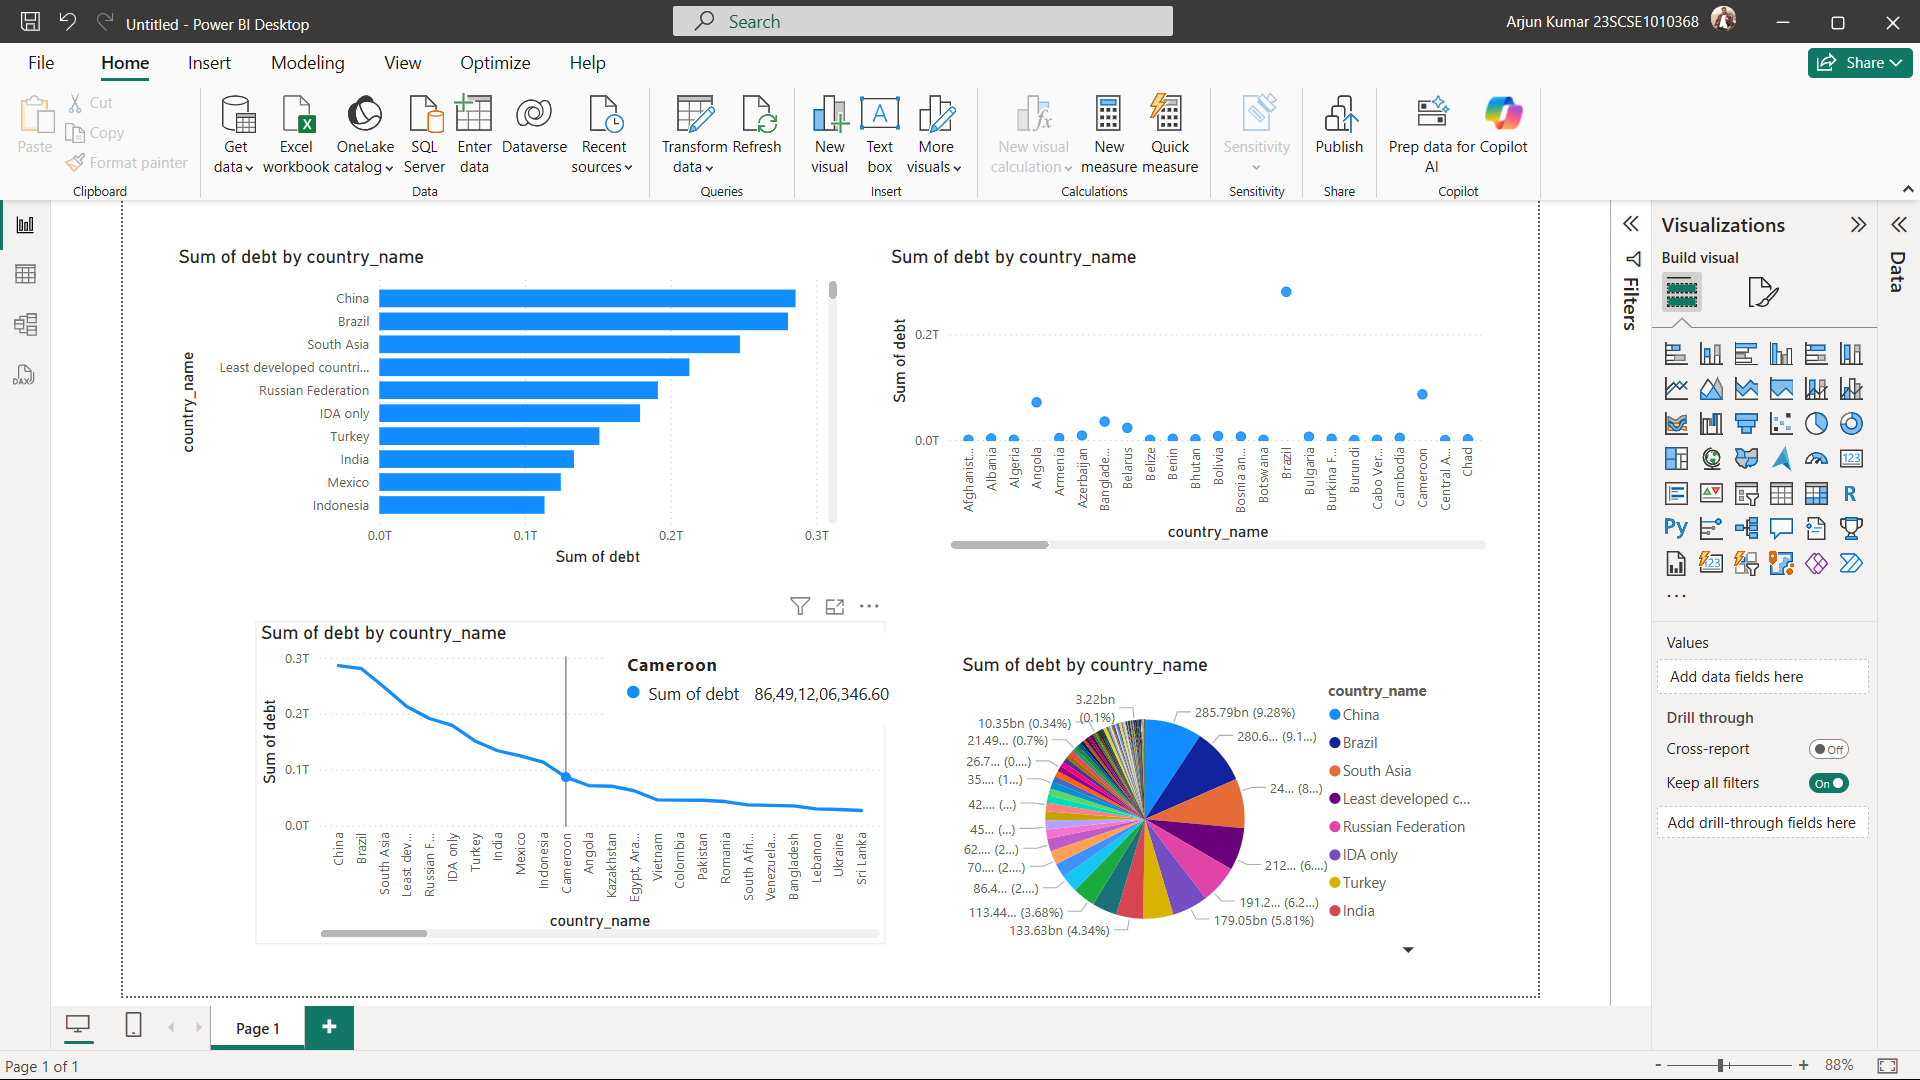

The page's visual inventory and layout, read from the dashboard file:
{"tool":"powerbi","page":{"name":"Page 1","canvas":[1280,720],"ordinal":0},"visuals":[{"type":"clusteredBarChart","fields":{"Y":["Sum(international_debt (1).debt)"],"Category":["international_debt (1).country_name"]},"box":[30,6.7,646.7,341.1],"z":0},{"type":"lineChart","fields":{"Category":["international_debt (1).country_name"],"Y":["Sum(international_debt (1).debt)"]},"box":[13.3,373.3,626.7,330],"z":1},{"type":"scatterChart","fields":{"X":["international_debt (1).country_name"],"Y":["Sum(international_debt (1).debt)"]},"box":[690,6.7,558.9,351.1],"z":2},{"type":"pieChart","fields":{"Y":["Sum(international_debt (1).debt)"],"Category":["international_debt (1).country_name"]},"box":[701.1,373.3,547.8,330],"z":3}]}

Visuals, with their boxes on the page's 1280x720 design canvas (x1, y1, x2, y2). These are canvas units, not pixel positions in the 1920x1080 screenshot, which may show the page scaled, cropped or inside an application window:
clusteredBarChart - Sum(international_debt (1).debt) x international_debt (1).country_name: pyautogui.locateOnScreen(30, 7, 677, 348)
lineChart - international_debt (1).country_name x Sum(international_debt (1).debt): pyautogui.locateOnScreen(13, 373, 640, 703)
scatterChart - international_debt (1).country_name x Sum(international_debt (1).debt): pyautogui.locateOnScreen(690, 7, 1249, 358)
pieChart - Sum(international_debt (1).debt) x international_debt (1).country_name: pyautogui.locateOnScreen(701, 373, 1249, 703)
